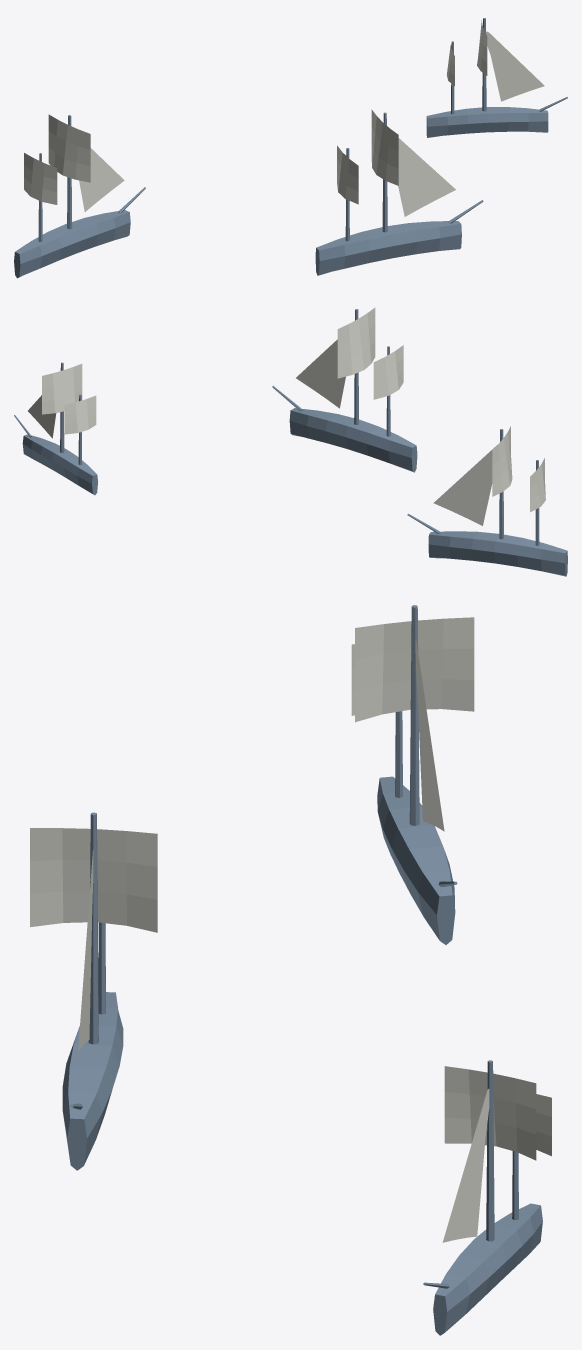
The model's file is FarFleet.fbx.
3 renders of one model, top to bottom at view 1: azimuth 30°, elevation 25°; view 2: azimuth 150°, elevation 25°; view 3: azimuth 270°, elevation 25°, orthographic. The views are drawn at different scales.
Visible parts, largest first — view 1: FarFleet; view 2: FarFleet; view 3: FarFleet.
Boxes of the visible parts, left/top/right/bottom form: FarFleet: left=14, top=18, right=567, bottom=278; FarFleet: left=14, top=307, right=567, bottom=576; FarFleet: left=30, top=605, right=551, bottom=1335.
Size of the model in its own units: 3496 by 893 by 1453.
